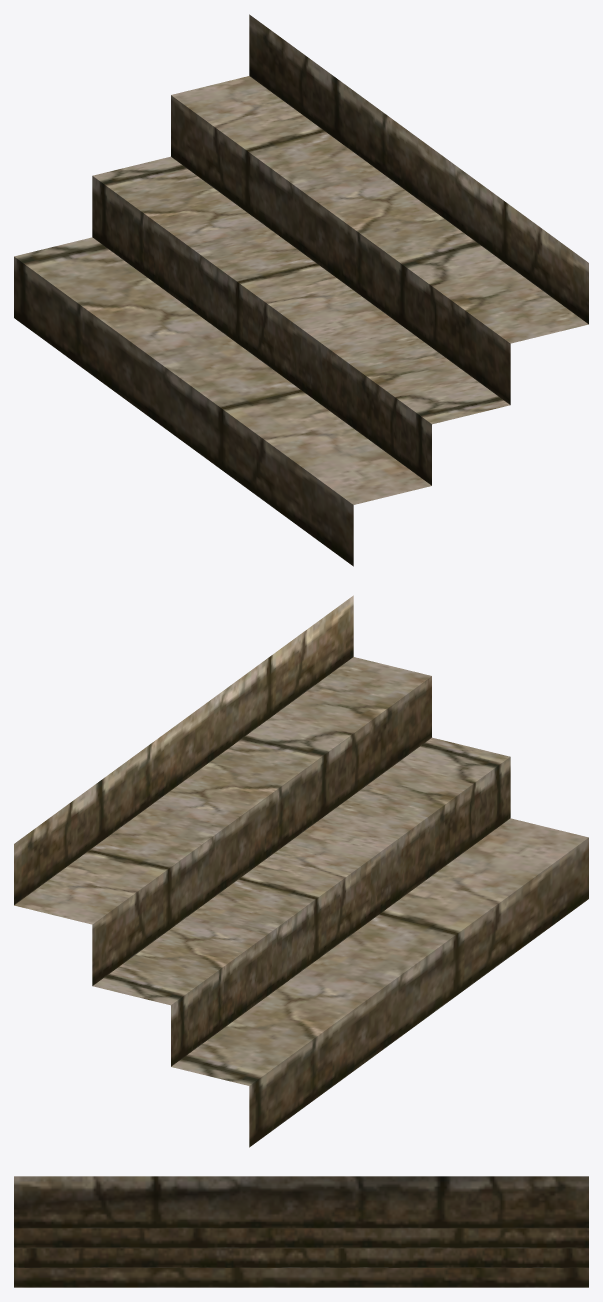
Rendered from OVERHILL_A_01_OH_STAIR_73635.fbx.
The picture shows the model from 3 angles, top to bottom: view 1: azimuth 30°, elevation 25°; view 2: azimuth 150°, elevation 25°; view 3: azimuth 270°, elevation 25°; orthographic projection. The views are drawn at different scales.
Parts seen in each view (by area): view 1: OVERHILL_A_01_OH_STAIR_73635; view 2: OVERHILL_A_01_OH_STAIR_73635; view 3: OVERHILL_A_01_OH_STAIR_73635.
Boxes of the visible parts, <box> form: OVERHILL_A_01_OH_STAIR_73635: <box>14,14,588,566</box>; OVERHILL_A_01_OH_STAIR_73635: <box>14,595,588,1147</box>; OVERHILL_A_01_OH_STAIR_73635: <box>14,1176,588,1287</box>.
Size of the model in its own units: 12000 by 12000 by 30000.
Materials: 1 (1 with a texture image).
